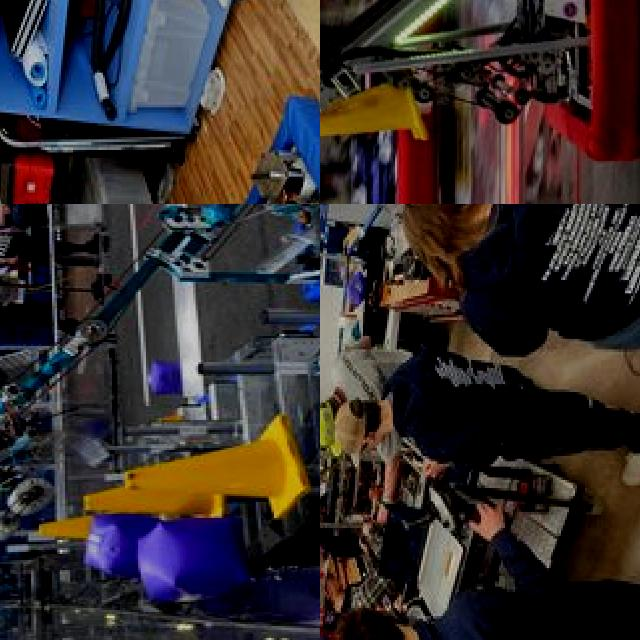FRC-Robots: (0, 204, 320, 549), (320, 0, 640, 198), (0, 84, 320, 204), (320, 0, 446, 204), (320, 420, 397, 566)
